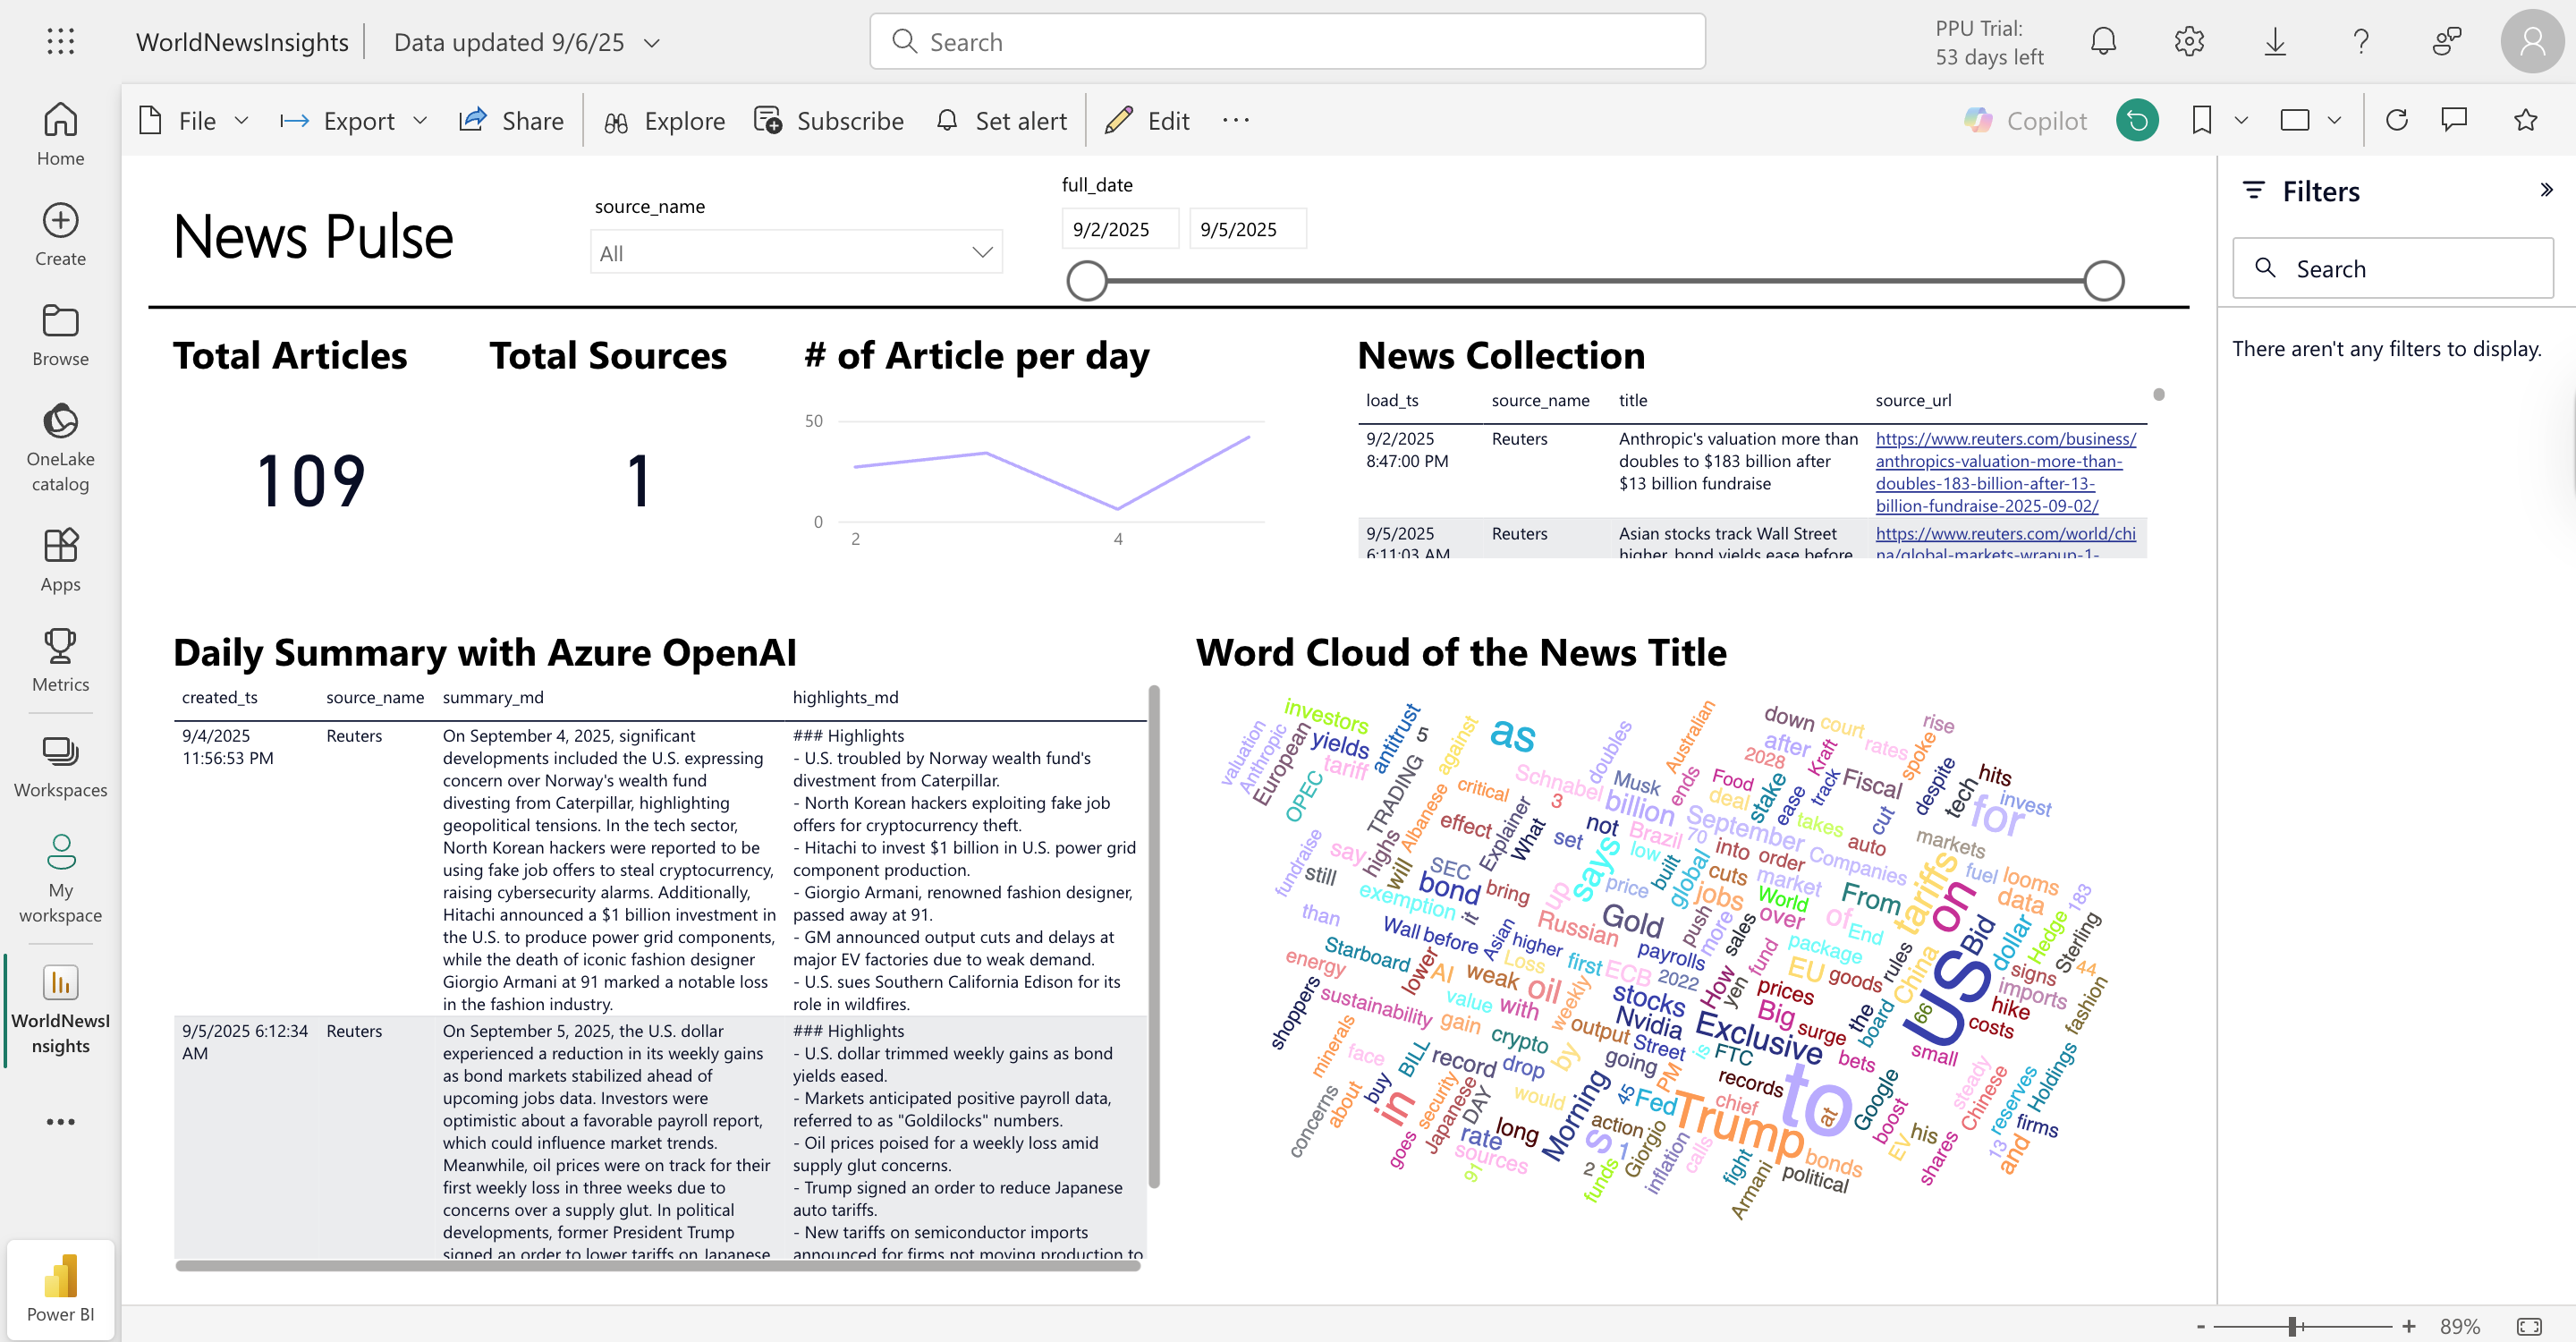

The dashboard page shown, as its layout file describes it:
{"tool":"powerbi","page":{"name":"Page 1","canvas":[1280,720],"ordinal":0},"visuals":[{"type":"textbox","box":[10.1,18.5,278.8,122.6],"z":0},{"type":"shape","box":[0,77.3,1280,35.3],"z":1000},{"type":"slicer","fields":{"Values":["dwh dim_source.source_name"]},"box":[267.1,18.5,278.8,75.6],"z":2000},{"type":"slicer","fields":{"Values":["dwh dim_date.full_date"]},"box":[559.4,5,687,102.5],"z":3000},{"type":"card","title":"Total Articles","fields":{"Values":["dwh fact_article.count_article"]},"box":[10.1,107.5,278.8,149.5],"z":4000},{"type":"card","title":"Total Sources","fields":{"Values":["dwh fact_article.count_sources"]},"box":[322.5,112.5,278.8,149.5],"z":5000},{"type":"lineChart","title":"# of Article per day","fields":{"Category":["dwh dim_date.full_date.Variation.Date Hierarchy.Day"],"Y":["dwh fact_article.count_article"]},"box":[640,112.5,606.4,151.2],"z":6000},{"type":"WordCloud1447959067750","title":"Word Cloud of the News Title","fields":{"Category":["dwh fact_article.title"]},"box":[651.8,294,614.8,411.5],"z":6001},{"type":"tableEx","title":"News Collection","fields":{"Values":["dwh fact_article.load_ts","dwh dim_source.source_name","dwh fact_article.title","dwh dim_source.source_url"]},"box":[10.1,294,629.9,411.5],"z":6002}]}

Visuals, with their boxes on the page's 1280x720 design canvas (x1, y1, x2, y2). These are canvas units, not pixel positions in the 2576x1342 screenshot, which may show the page scaled, cropped or inside an application window:
textbox: locate(10, 18, 289, 141)
shape: locate(0, 77, 1280, 113)
slicer - dwh dim_source.source_name: locate(267, 18, 546, 94)
slicer - dwh dim_date.full_date: locate(559, 5, 1246, 108)
"Total Articles" card: locate(10, 108, 289, 257)
"Total Sources" card: locate(322, 112, 601, 262)
"# of Article per day" lineChart: locate(640, 112, 1246, 264)
"Word Cloud of the News Title" WordCloud1447959067750: locate(652, 294, 1267, 706)
"News Collection" tableEx: locate(10, 294, 640, 706)
